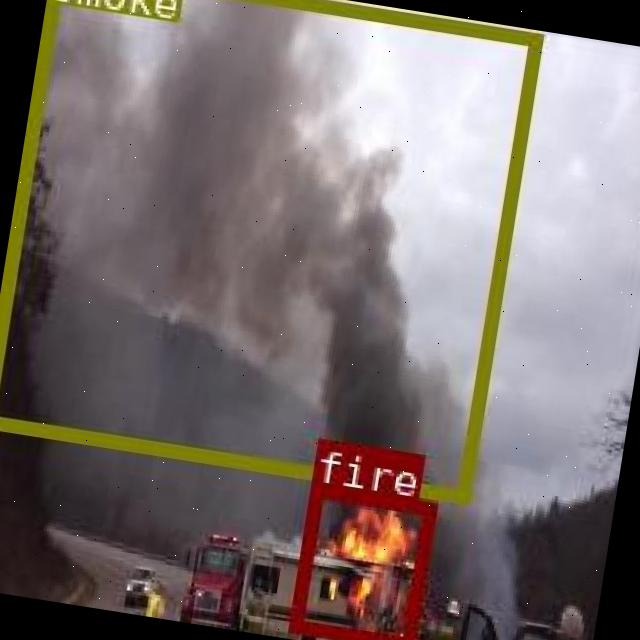fire: (286, 482, 434, 640)
smoke: (0, 0, 541, 500)
